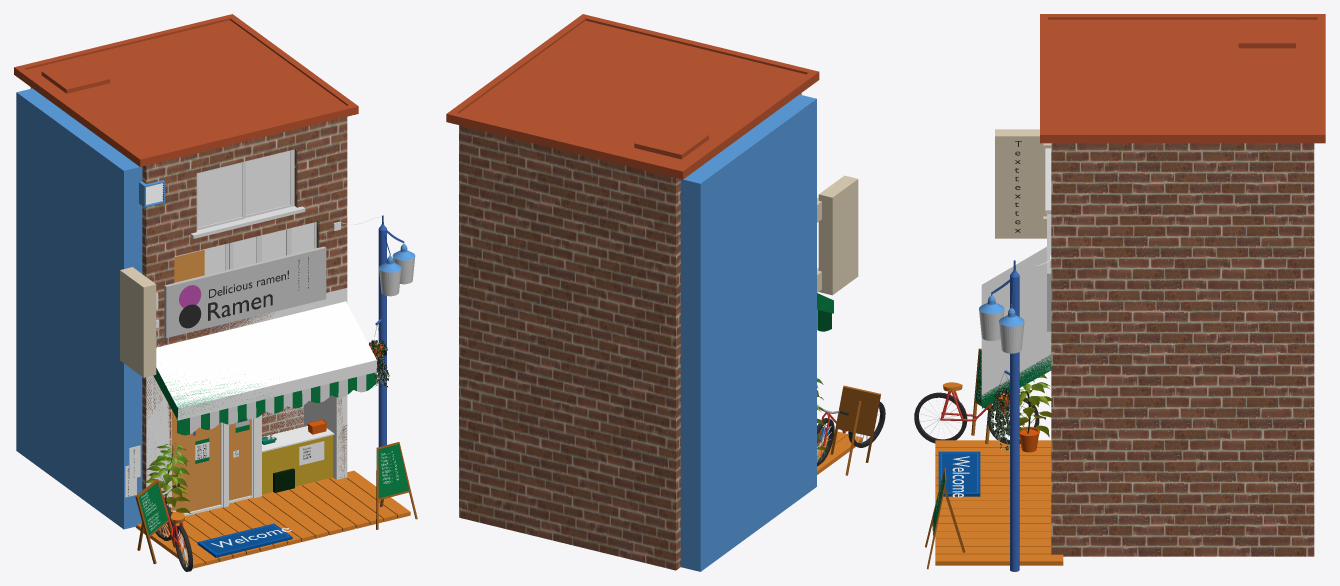
Rendered from japanese_ramen_shop.glb.
3 renders of one model, left to right at view 1: azimuth 30°, elevation 25°; view 2: azimuth 150°, elevation 25°; view 3: azimuth 270°, elevation 25°, orthographic. The views are drawn at different scales.
Parts seen in each view (by area): view 1: object 20, object 13, object 89, object 12, object 15, object 17, object 21, object 39, object 29, object 65, object 64, object 41 (+21 smaller); view 2: object 12, object 20, object 13, object 21, object 76, object 53, object 15; view 3: object 12, object 13, object 15, object 89, object 21, object 19, object 18, object 53, Circle_100, object 84, plant.000_98, object 31 (+5 smaller).
Part boxes in pixels (bbox=[...]): object 20: bbox=[16, 88, 142, 529]; object 13: bbox=[14, 14, 358, 166]; object 89: bbox=[146, 288, 376, 510]; object 12: bbox=[30, 87, 347, 490]; object 15: bbox=[135, 470, 410, 568]; object 17: bbox=[164, 246, 326, 337]; object 21: bbox=[120, 267, 156, 377]; object 39: bbox=[171, 409, 223, 516]; object 29: bbox=[177, 372, 375, 435]; object 65: bbox=[246, 151, 290, 215]; object 64: bbox=[198, 163, 242, 227]; object 41: bbox=[262, 435, 332, 494]; object 12: bbox=[459, 93, 801, 570]; object 20: bbox=[680, 94, 816, 571]; object 13: bbox=[446, 14, 819, 179]; object 21: bbox=[818, 175, 858, 295]; object 76: bbox=[830, 385, 880, 462]; object 53: bbox=[634, 123, 708, 159]; object 15: bbox=[817, 431, 862, 474]; object 12: bbox=[1051, 143, 1314, 556]; object 13: bbox=[1040, 14, 1325, 143]; object 15: bbox=[935, 440, 1063, 565]; object 89: bbox=[981, 246, 1051, 400]; object 21: bbox=[995, 129, 1046, 238]; object 19: bbox=[1010, 260, 1019, 571]; object 18: bbox=[938, 451, 980, 496]; object 53: bbox=[1238, 19, 1295, 48]; Circle_100: bbox=[1019, 374, 1051, 436]; object 84: bbox=[999, 304, 1024, 353]; plant.000_98: bbox=[989, 372, 1009, 450]; object 31: bbox=[979, 292, 1004, 340].
Size of the model in its own units: 5.32 by 6.64 by 5.73.
Materials: 42 (9 with a texture image).
